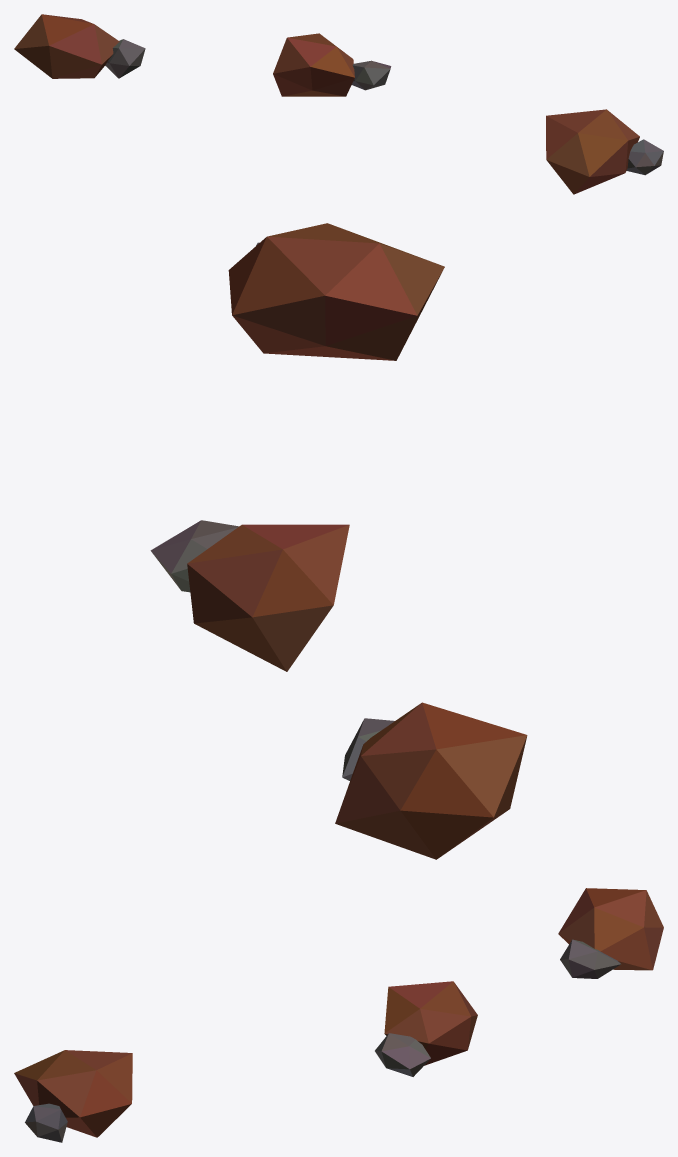
Rendered from Iron.glb.
3 renders of one model, top to bottom at view 1: azimuth 30°, elevation 25°; view 2: azimuth 150°, elevation 25°; view 3: azimuth 270°, elevation 25°, orthographic. The views are drawn at different scales.
Parts seen in each view (by area): view 1: Iron; view 2: Iron; view 3: Iron.
Part boxes in pixels (bbox=[...]): Iron: bbox=[14, 14, 663, 194]; Iron: bbox=[150, 223, 527, 859]; Iron: bbox=[14, 888, 663, 1142].
Size of the model in its own units: 0.6015 by 0.0925 by 0.7697.
